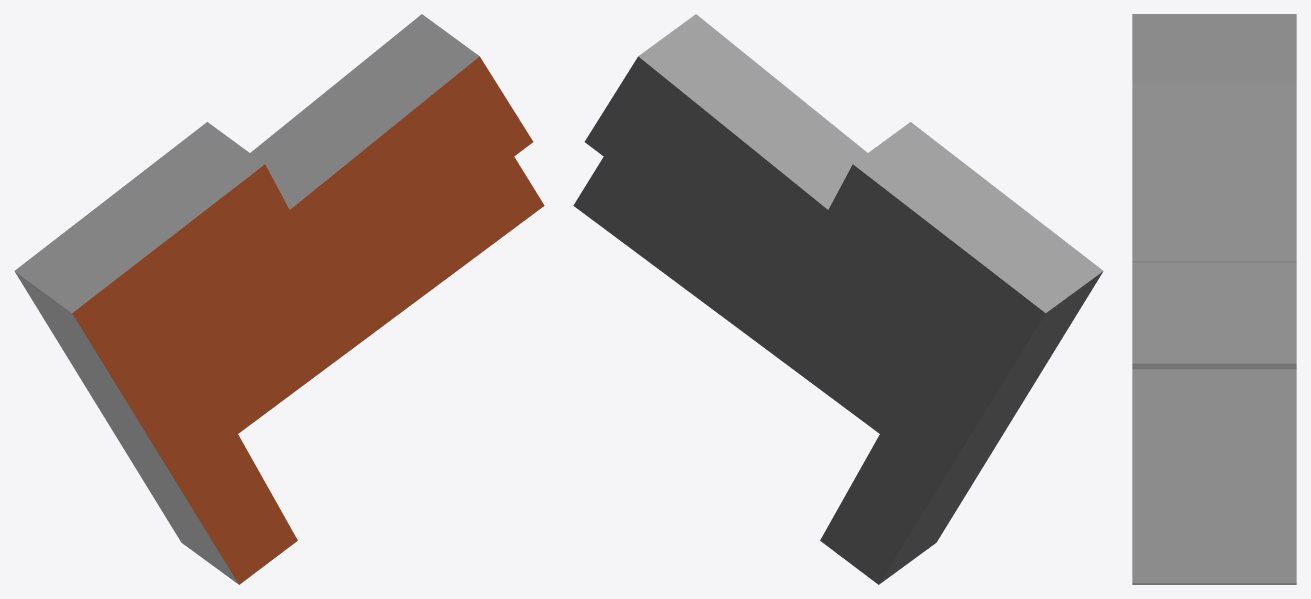
File: construction_0867_assumed_A_Casa_h6m.obj
3 renders of one model, left to right at view 1: azimuth 30°, elevation 25°; view 2: azimuth 150°, elevation 25°; view 3: azimuth 270°, elevation 25°, orthographic. The views are drawn at different scales.
Parts seen in each view (by area): view 1: construction_0867_assumed_A_Casa; view 2: construction_0867_assumed_A_Casa; view 3: construction_0867_assumed_A_Casa.
Part boxes in pixels (box(x1,y1,x2,y2)): construction_0867_assumed_A_Casa: box(14, 14, 544, 584); construction_0867_assumed_A_Casa: box(573, 14, 1103, 584); construction_0867_assumed_A_Casa: box(1132, 14, 1296, 584).
Bounding box in the file's own units: 28.3 × 26.9 × 6.
